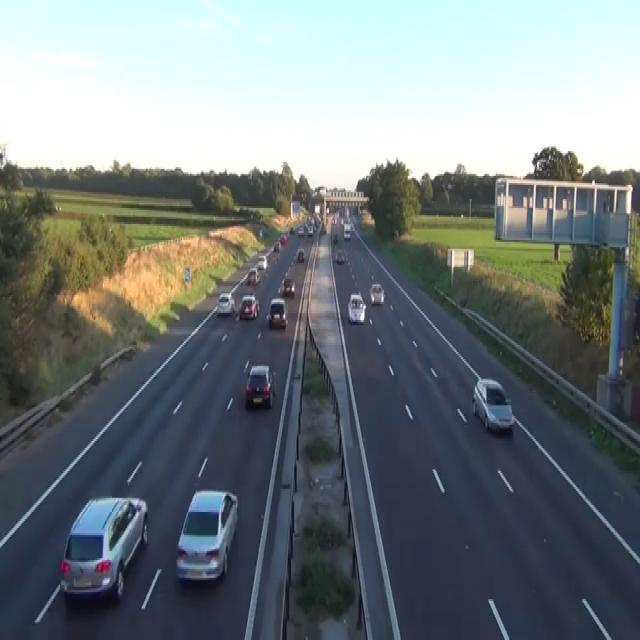Car: (59, 494, 148, 603), (175, 489, 238, 581), (472, 377, 514, 434), (245, 364, 275, 409), (347, 292, 366, 324), (267, 297, 287, 327), (239, 293, 260, 320), (216, 292, 235, 314), (277, 277, 295, 297), (369, 283, 384, 304), (247, 266, 260, 284), (257, 254, 267, 268), (335, 249, 344, 263), (296, 247, 304, 261), (343, 224, 350, 240), (331, 229, 338, 242), (279, 235, 287, 245), (273, 240, 280, 251), (306, 224, 313, 235), (297, 226, 304, 236), (55, 202, 61, 212), (292, 251, 297, 263), (272, 256, 277, 265), (349, 222, 354, 231), (322, 224, 326, 233), (290, 226, 294, 234), (258, 228, 262, 236), (340, 217, 344, 224)
Truck: (290, 199, 300, 219)
